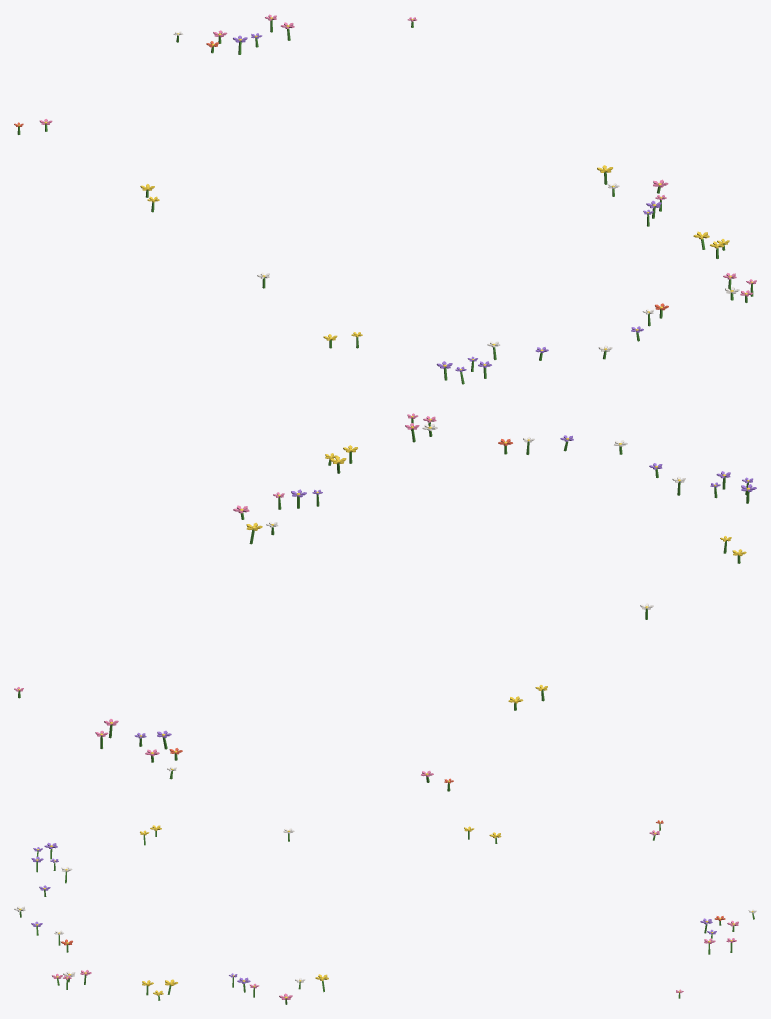
The model's file is w1_flowerbeds.fbx.
3 views of the same model, one above another, from view 1: azimuth 30°, elevation 25°; view 2: azimuth 150°, elevation 25°; view 3: azimuth 270°, elevation 25° (orthographic). The views are drawn at different scales.
Visible parts, largest first — view 1: FlowerBedHouse.Stems; view 2: FlowerBedHouse.Stems; view 3: FlowerBedHouse.Stems, FlowerBedHouse.Purple, FlowerBedHouse.Pink, FlowerBedHouse.Yellow.
Boxes of the visible parts, x1,y1,x2,y2 form: FlowerBedHouse.Stems: (17,19,753,384); FlowerBedHouse.Stems: (18,418,749,791); FlowerBedHouse.Stems: (19,824,754,1004); FlowerBedHouse.Purple: (31,842,716,983); FlowerBedHouse.Pink: (52,830,738,999); FlowerBedHouse.Yellow: (140,825,501,995).
Bounding box in the file's own units: 21.19 × 0.8085 × 37.21.
